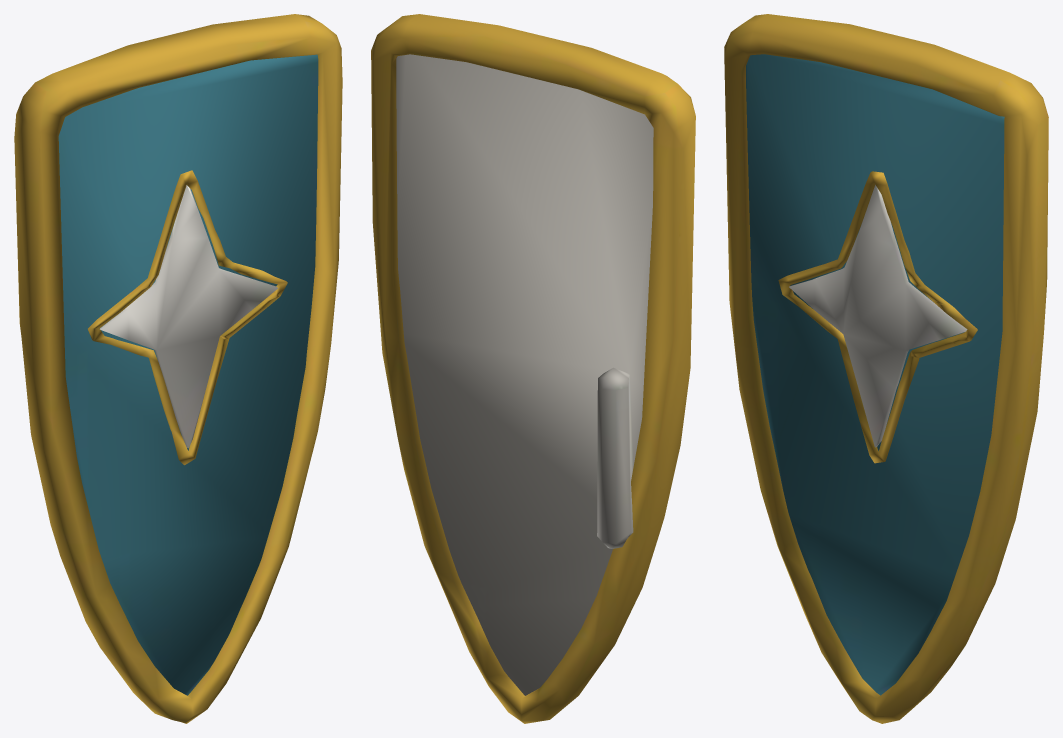
Rendered from guardian-shield.glb.
3 renders of one model, left to right at view 1: azimuth 30°, elevation 25°; view 2: azimuth 150°, elevation 25°; view 3: azimuth 330°, elevation 25°, orthographic.
Visible parts, largest first — view 1: shield; view 2: shield; view 3: shield.
Boxes of the visible parts, x1,y1,x2,y2 form: shield: (14, 14, 342, 723); shield: (371, 14, 695, 723); shield: (724, 14, 1048, 723).
Bounding box in the file's own units: 0.3348 × 0.6931 × 0.0708.
Materials: 1 (1 with a texture image).
